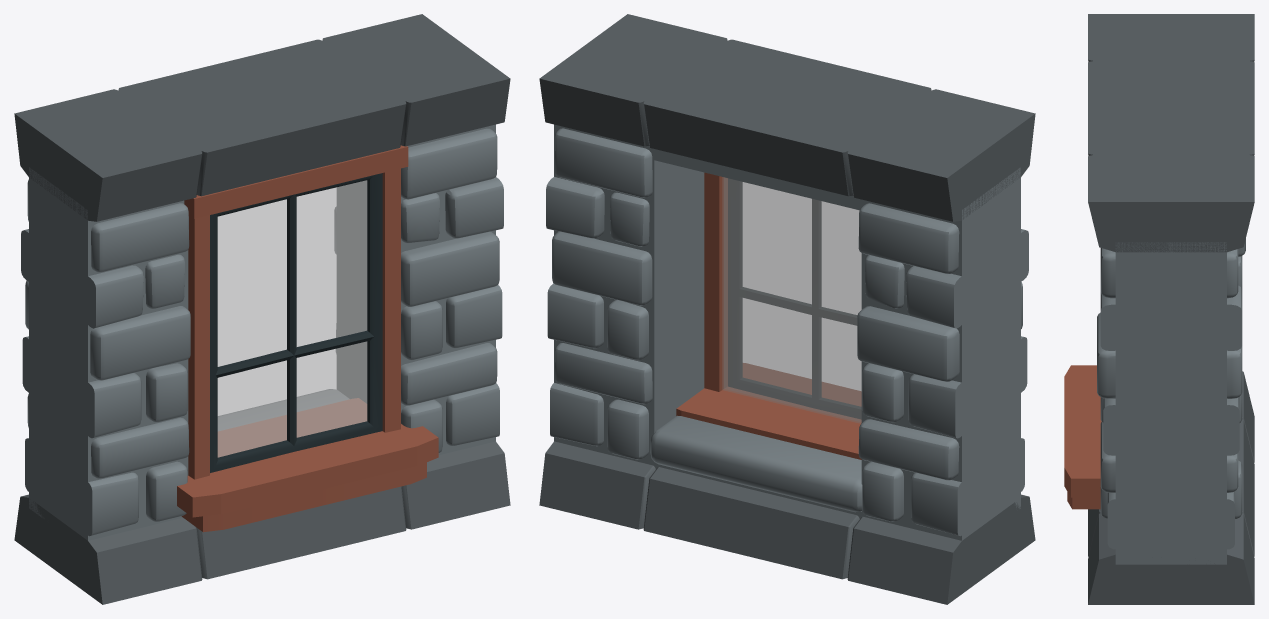
File: wall_window.fbx
The picture shows the model from 3 angles, left to right: view 1: azimuth 30°, elevation 25°; view 2: azimuth 150°, elevation 25°; view 3: azimuth 270°, elevation 25°; orthographic projection. The views are drawn at different scales.
Visible parts, largest first — view 1: wall_window; view 2: wall_window; view 3: wall_window.
Boxes of the visible parts, box(x1,y1,x2,y2) form: wall_window: box(14, 14, 510, 604); wall_window: box(539, 14, 1035, 604); wall_window: box(1064, 14, 1254, 604).
Bounding box in the file's own units: 4 × 4 × 1.71.
